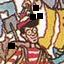waldo: (17, 12, 40, 44)
